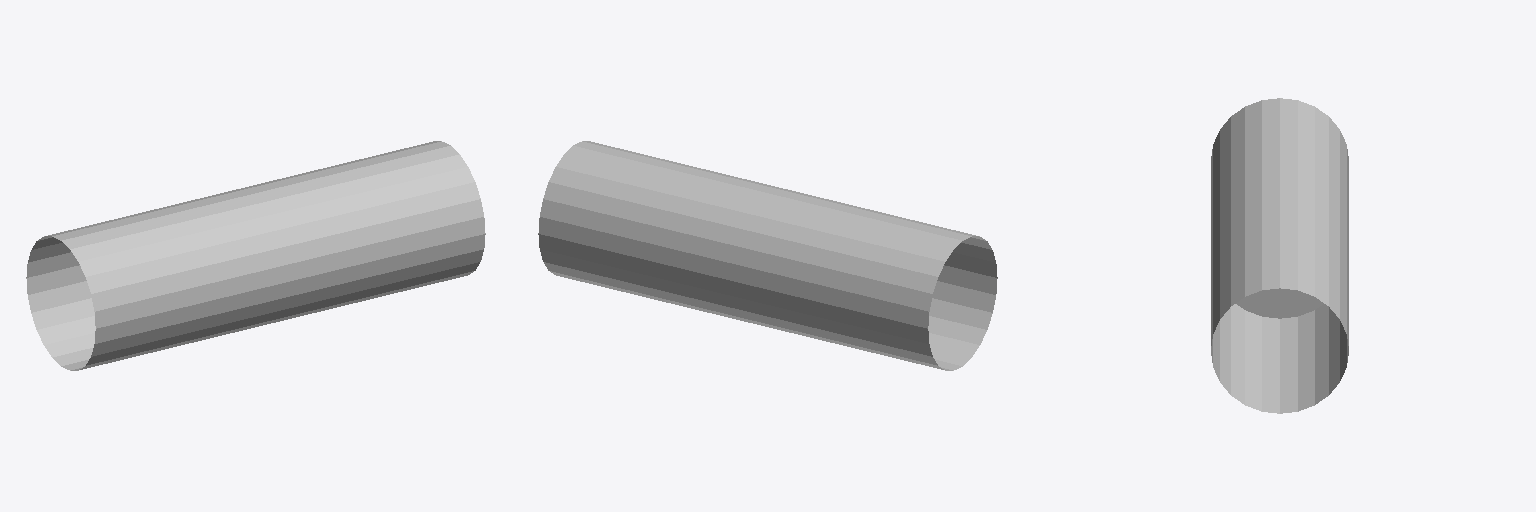
Rendered from original-116.obj.
3 renders of one model, left to right at view 1: azimuth 30°, elevation 25°; view 2: azimuth 150°, elevation 25°; view 3: azimuth 270°, elevation 25°, orthographic.
Visible parts, largest first — view 1: #ID741; view 2: #ID741; view 3: #ID741.
Boxes of the visible parts, <box> form: #ID741: <box>26,141,485,370</box>; #ID741: <box>538,141,997,370</box>; #ID741: <box>1211,98,1348,413</box>.
Bounding box in the file's own units: 0.0196 × 0.006 × 0.006.